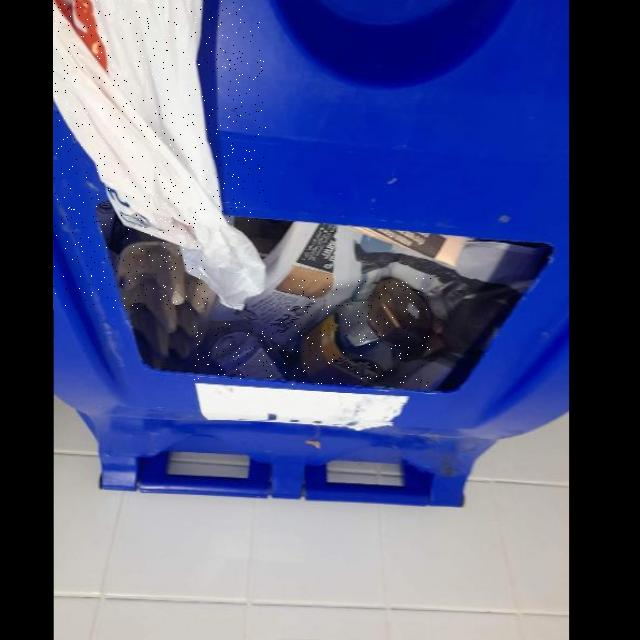paper: (210, 222, 545, 344)
plastic: (54, 0, 266, 310), (288, 278, 431, 385), (190, 322, 289, 380)
